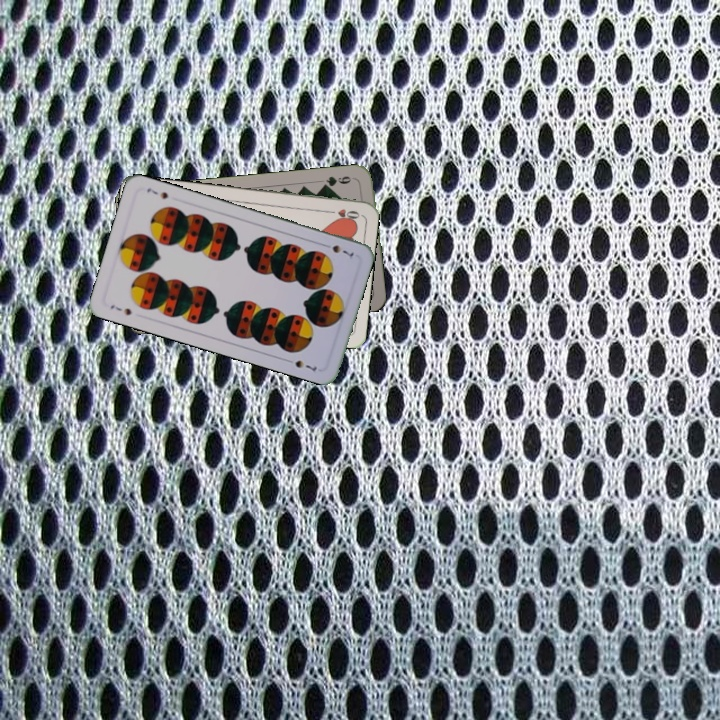G9: (318, 172, 358, 190)
HO: (322, 205, 362, 222)
S7: (319, 240, 356, 259), (106, 301, 134, 318)
